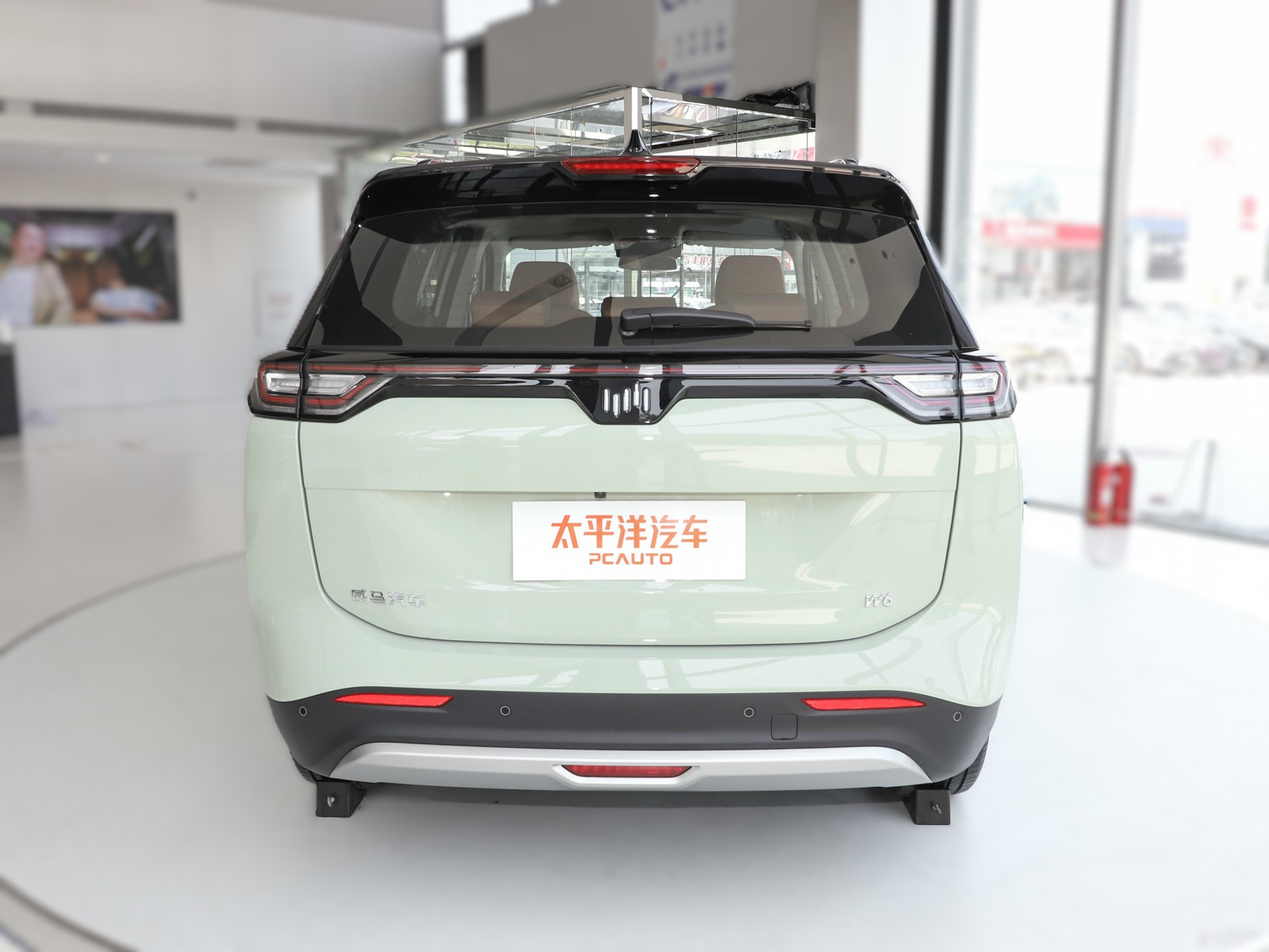WELTMEISTER: (602, 382, 648, 416)
